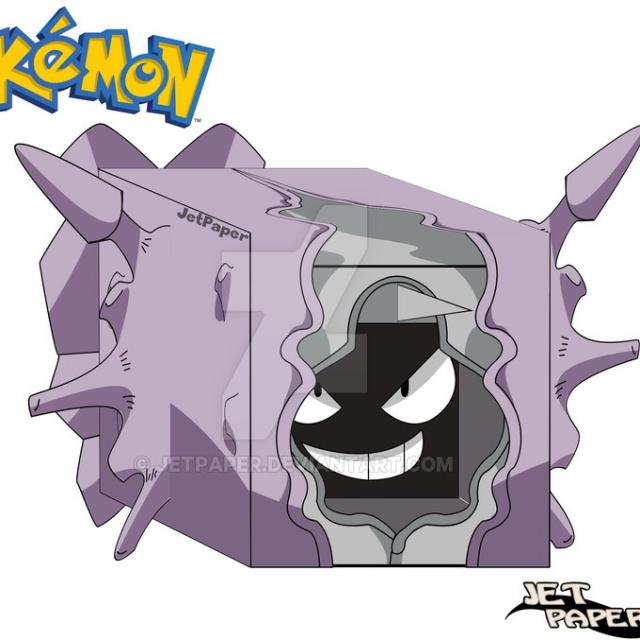Cloyster: (44, 140, 588, 572)
